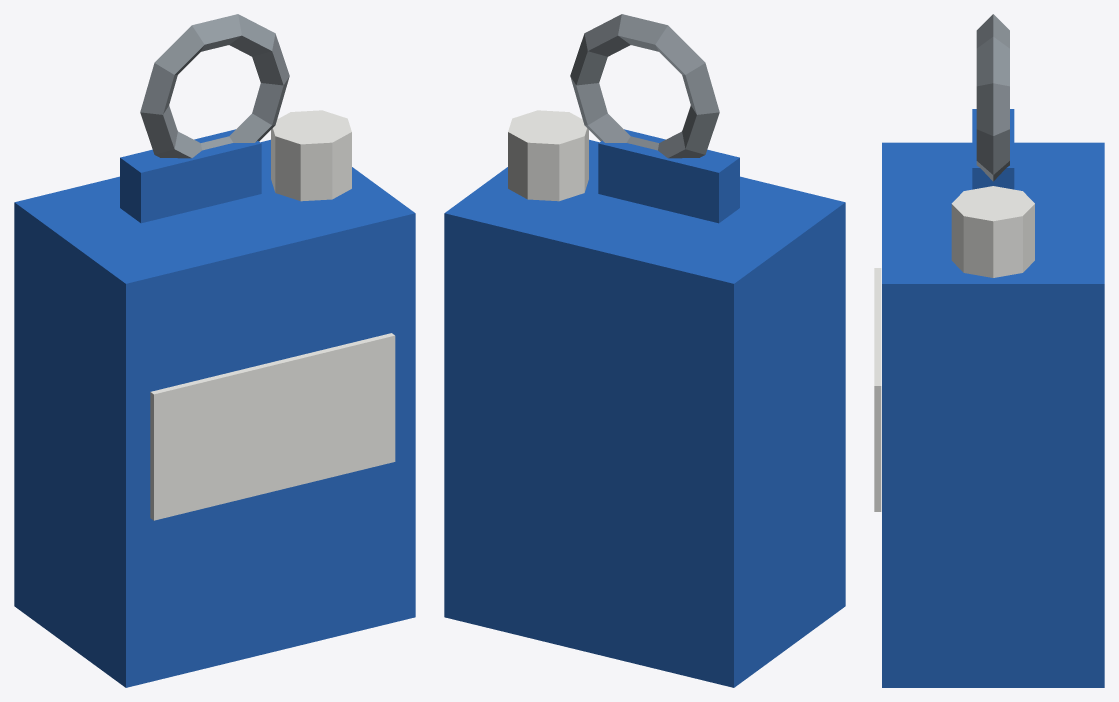
Rendered from supply_water.fbx.
3 renders of one model, left to right at view 1: azimuth 30°, elevation 25°; view 2: azimuth 150°, elevation 25°; view 3: azimuth 270°, elevation 25°, orthographic.
Visible parts, largest first — view 1: M__supply_water; view 2: M__supply_water; view 3: M__supply_water.
Part boxes in pixels (x1,y1,x2,y2): M__supply_water: (14, 14, 415, 687); M__supply_water: (444, 14, 845, 687); M__supply_water: (874, 14, 1104, 687).
Size of the model in its own units: 0.24 by 0.469 by 0.1655.
